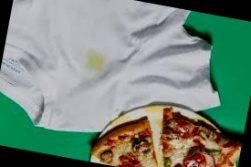oil: (82, 50, 110, 78)
